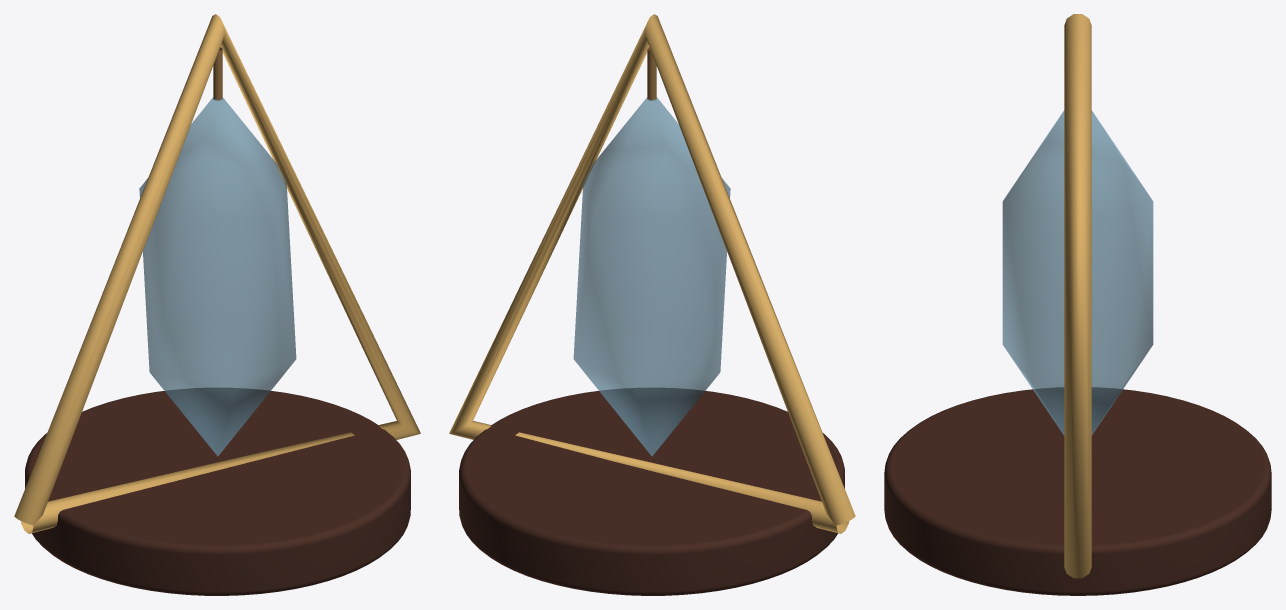
File: oracle-prism-v1.glb
3 renders of one model, left to right at view 1: azimuth 30°, elevation 25°; view 2: azimuth 150°, elevation 25°; view 3: azimuth 270°, elevation 25°, orthographic.
Visible parts, largest first — view 1: OracleBase, OraclePrism, OracleFrame; view 2: OracleBase, OraclePrism, OracleFrame; view 3: OracleBase, OraclePrism, OracleFrame.
Boxes of the visible parts, x1,y1,x2,y2 form: OracleBase: [25, 388, 410, 595]; OraclePrism: [139, 97, 296, 456]; OracleFrame: [14, 14, 420, 533]; OracleBase: [459, 388, 844, 595]; OraclePrism: [573, 97, 730, 456]; OracleFrame: [449, 14, 855, 533]; OracleBase: [884, 387, 1271, 595]; OraclePrism: [1002, 110, 1153, 435]; OracleFrame: [1064, 14, 1091, 578].
Size of the model in its own units: 1.18 by 1.4 by 0.98.
